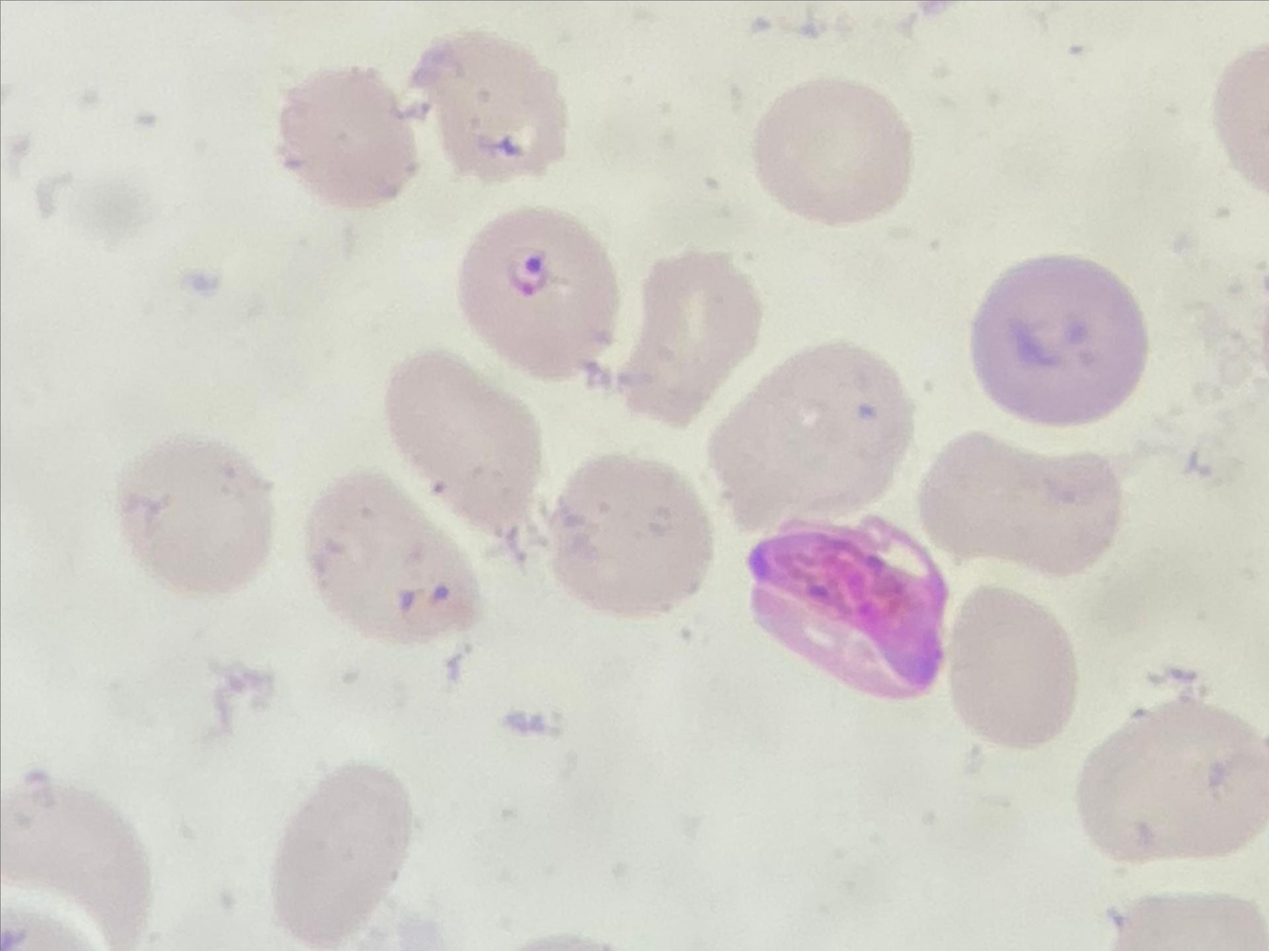Infected: (744, 511, 951, 704), (456, 205, 614, 378)
Uninfected: (706, 337, 917, 519), (1072, 701, 1269, 861), (302, 468, 482, 638), (972, 253, 1143, 427), (920, 435, 1118, 577), (387, 349, 540, 530), (545, 458, 716, 617), (269, 760, 416, 943), (618, 250, 762, 428), (0, 785, 151, 950), (119, 437, 274, 596), (420, 33, 572, 181), (752, 78, 907, 222), (947, 590, 1083, 750), (281, 65, 421, 209)
